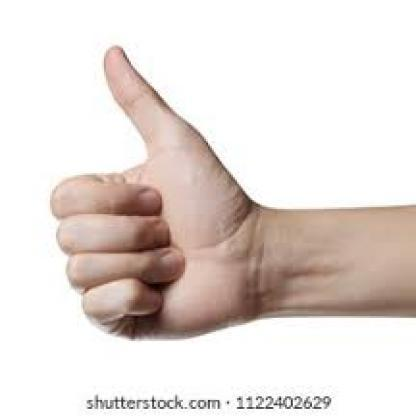thumb_up: (46, 41, 258, 344)
